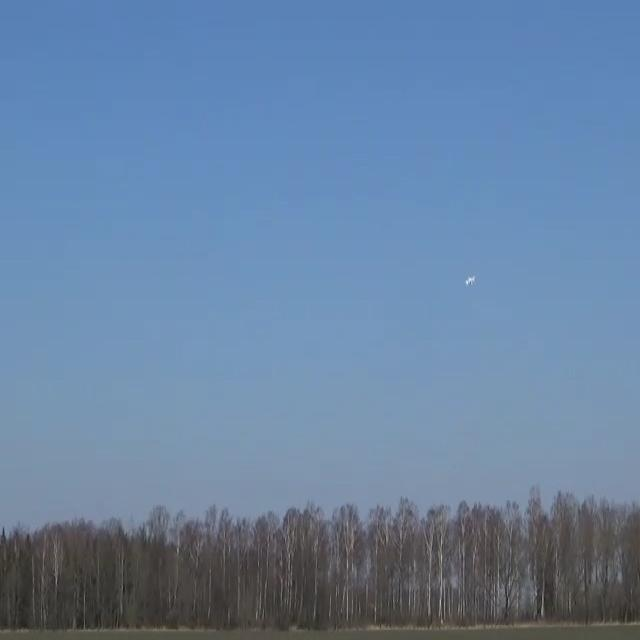drone: (465, 275, 476, 287)
